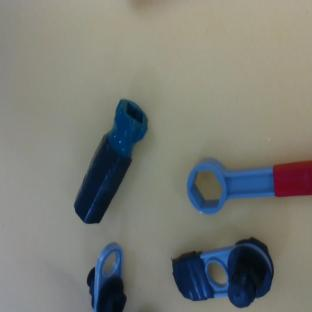part_1_bad: (169, 235, 278, 312)
part_1_good: (84, 242, 127, 312)
part_2_bad: (64, 96, 155, 229)
